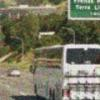buses: (30, 43, 100, 100)
